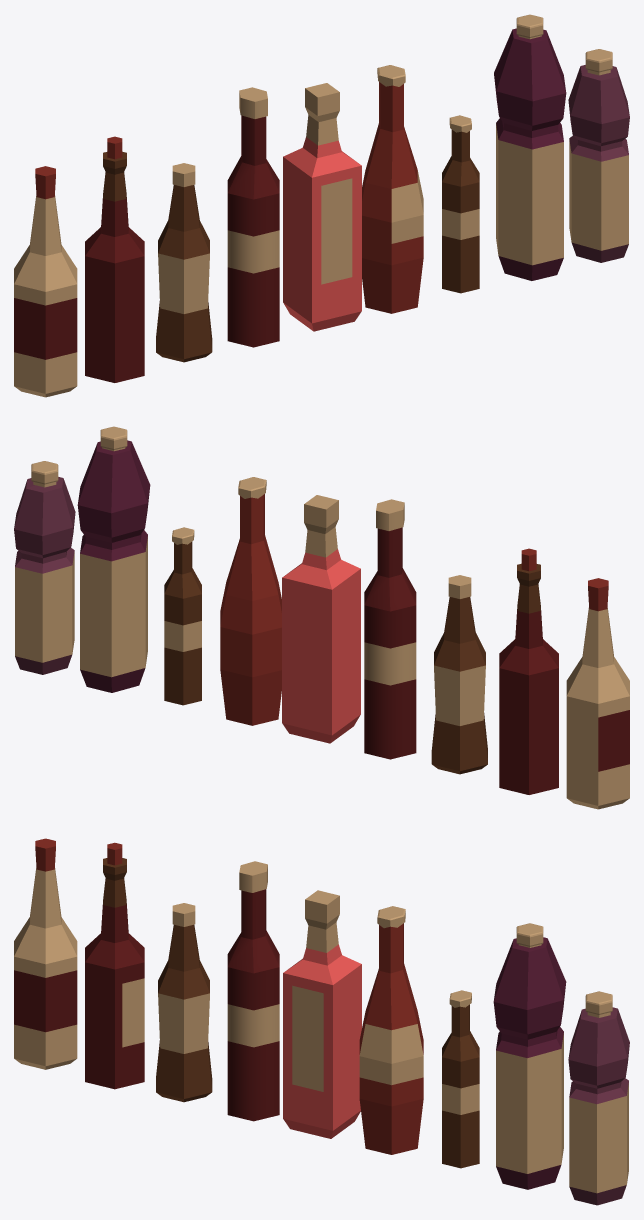
The model's file is Flaschen_01.fbx.
3 renders of one model, top to bottom at view 1: azimuth 30°, elevation 25°; view 2: azimuth 150°, elevation 25°; view 3: azimuth 330°, elevation 25°, orthographic.
Visible parts, largest first — view 1: Flasche04, Flasche06, Flasch01, Flasche05, Flasch02, Flasche09, Flasche08, Flasche07, Flasche03; view 2: Flasche04, Flasche06, Flasch01, Flasche05, Flasch02, Flasche09, Flasche08, Flasche07, Flasche03; view 3: Flasche04, Flasche06, Flasch01, Flasche05, Flasch02, Flasche09, Flasche08, Flasche07, Flasche03.
Boxes of the visible parts, x1,y1,x2,y2 form: Flasche04: (494, 14, 566, 280); Flasche06: (283, 83, 361, 331); Flasch01: (362, 65, 423, 313); Flasche05: (568, 49, 629, 262); Flasch02: (227, 87, 279, 347); Flasche09: (14, 166, 77, 397); Flasche08: (85, 136, 144, 382); Flasche07: (156, 163, 212, 362); Flasche03: (442, 115, 479, 293); Flasche04: (77, 426, 150, 692); Flasche06: (282, 495, 360, 743); Flasch01: (220, 477, 281, 725); Flasche05: (14, 461, 75, 674); Flasch02: (364, 499, 416, 759); Flasche09: (566, 578, 629, 809); Flasche08: (499, 548, 558, 794); Flasche07: (431, 575, 487, 774); Flasche03: (164, 527, 201, 705); Flasche04: (493, 923, 566, 1189); Flasche06: (283, 890, 361, 1138); Flasch01: (359, 906, 423, 1154); Flasche05: (568, 991, 629, 1205); Flasch02: (227, 861, 279, 1121); Flasche09: (14, 838, 77, 1069); Flasche08: (85, 842, 144, 1089); Flasche07: (156, 903, 212, 1102); Flasche03: (442, 990, 479, 1168).
Bounding box in the file's own units: 88.69 × 34.21 × 9.74.
